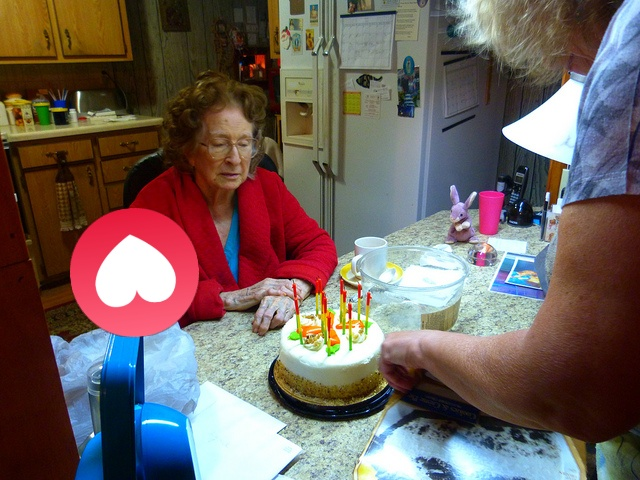love: (70, 208, 199, 337)
